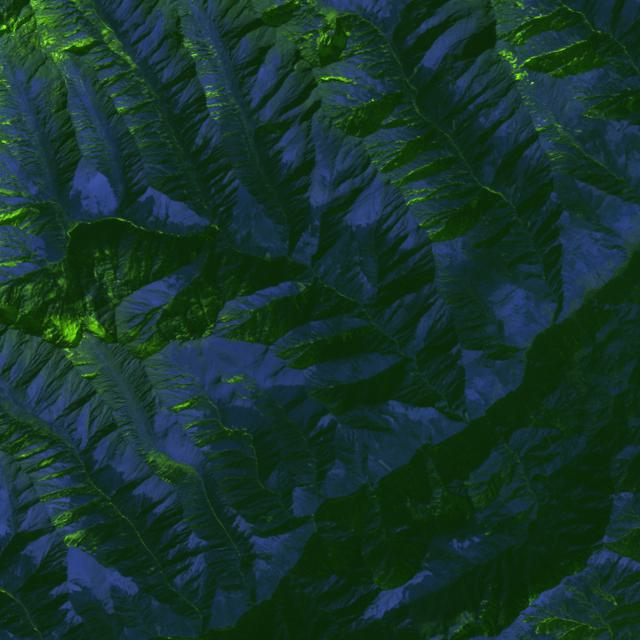landslides: (340, 61, 387, 96), (32, 264, 59, 308), (8, 172, 38, 203), (62, 261, 83, 300), (233, 257, 247, 292), (559, 624, 583, 637), (59, 294, 71, 315), (330, 63, 346, 78), (221, 250, 235, 266), (53, 283, 64, 302), (11, 252, 33, 261), (379, 459, 393, 473), (0, 403, 14, 417), (562, 31, 574, 46), (540, 606, 556, 617), (536, 619, 547, 633), (509, 185, 517, 204), (479, 604, 490, 617), (385, 72, 402, 80), (470, 196, 481, 208), (44, 138, 52, 154), (408, 67, 417, 81), (297, 282, 309, 292), (311, 330, 322, 340), (146, 565, 158, 574), (528, 613, 546, 619), (435, 404, 448, 412), (354, 430, 359, 450)
